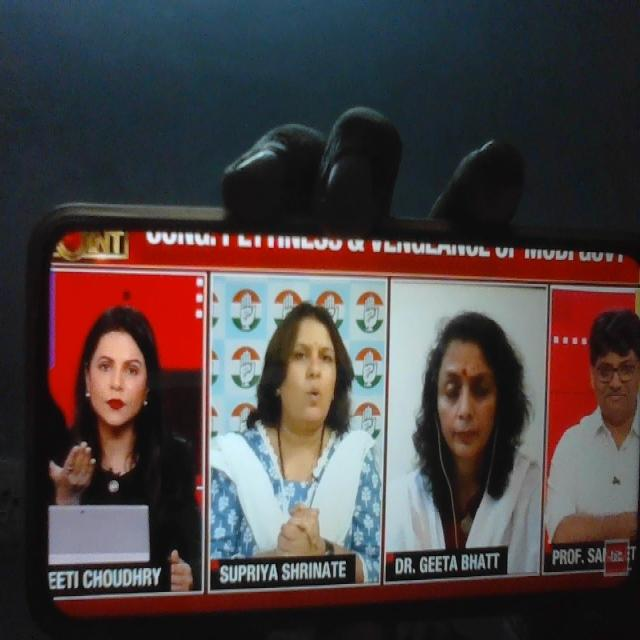fake: (407, 284, 525, 508)
